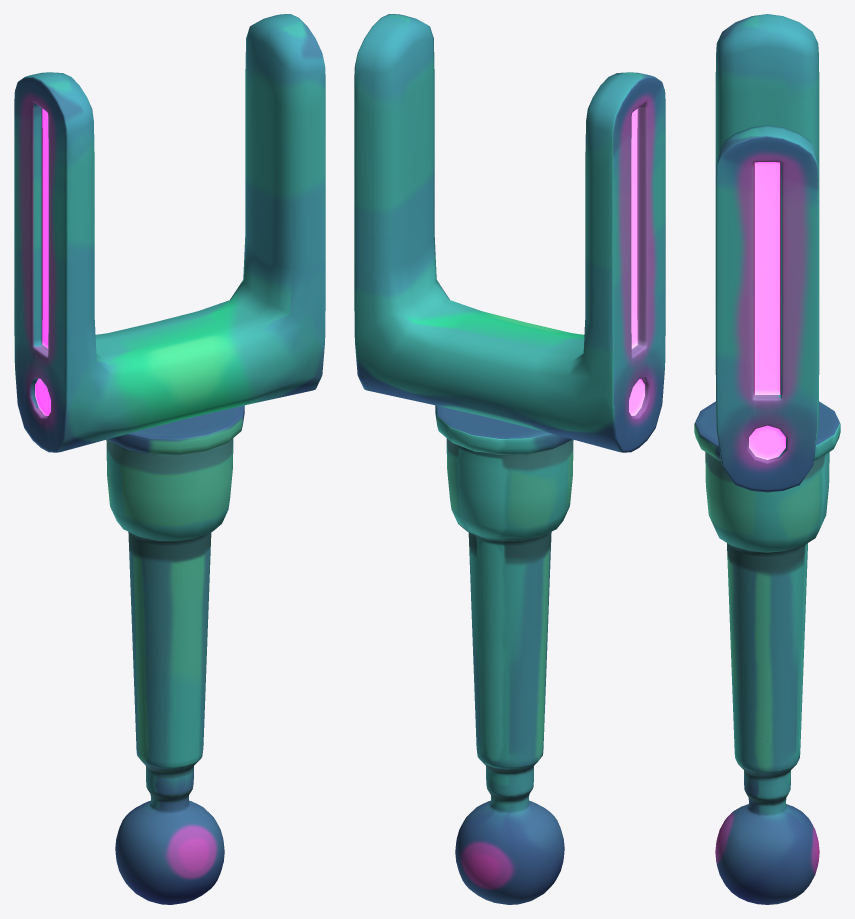
File: H4ck-Weapon.fbx
3 views of the same model, side by side, from view 1: azimuth 30°, elevation 25°; view 2: azimuth 150°, elevation 25°; view 3: azimuth 270°, elevation 25° (orthographic). The views are drawn at different scales.
Visible parts, largest first — view 1: Cube, onda; view 2: Cube, onda; view 3: Cube, onda.
Boxes of the visible parts, x1,y1,x2,y2 form: Cube: [14, 14, 325, 452]; onda: [106, 405, 244, 904]; Cube: [354, 14, 665, 452]; onda: [435, 405, 573, 904]; Cube: [715, 14, 819, 492]; onda: [694, 401, 840, 904].
Size of the model in its own units: 14.11 by 44.17 by 7.11.
2 materials, 1 textured.
